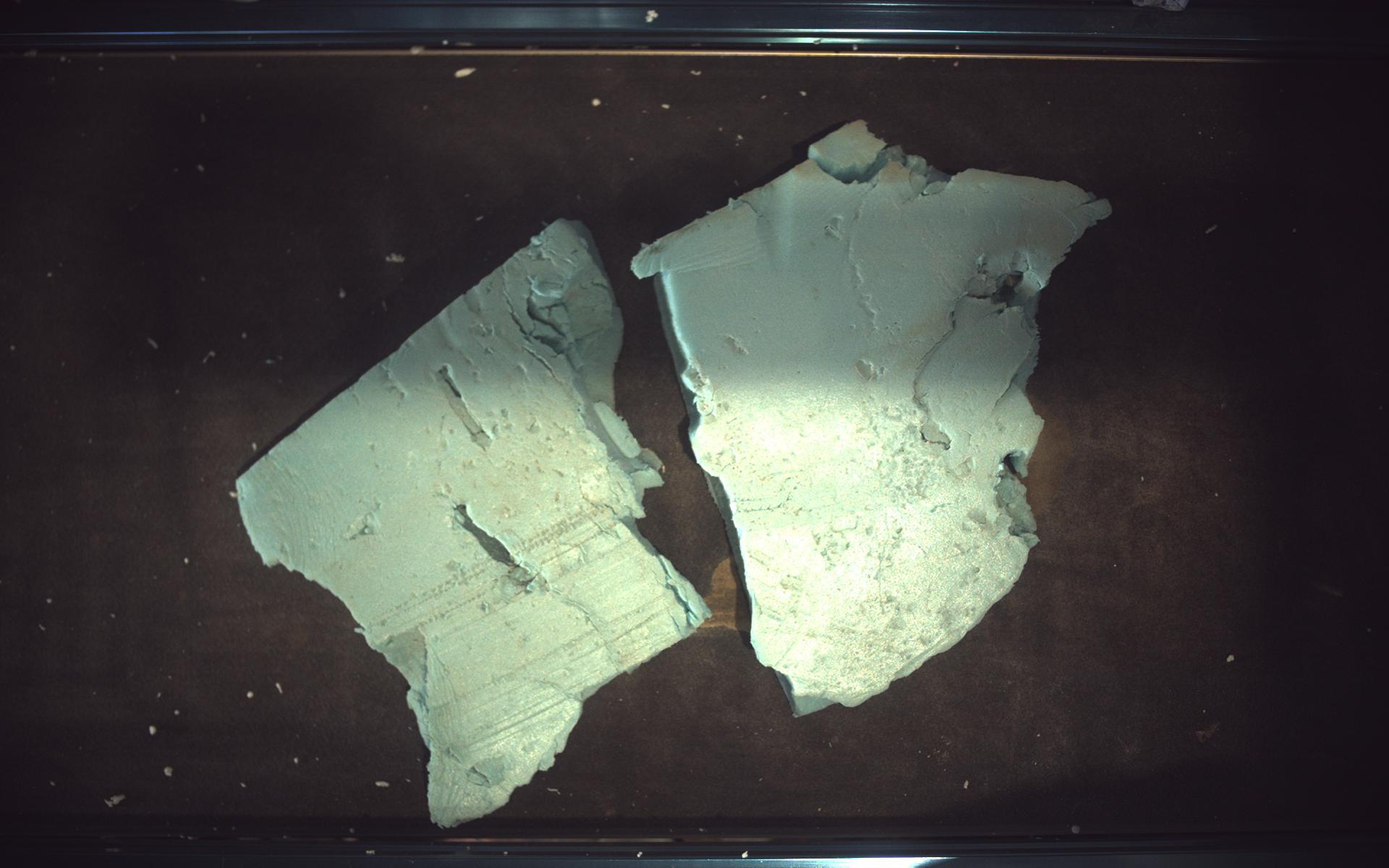foam: (236, 218, 710, 828), (632, 120, 1113, 715)
